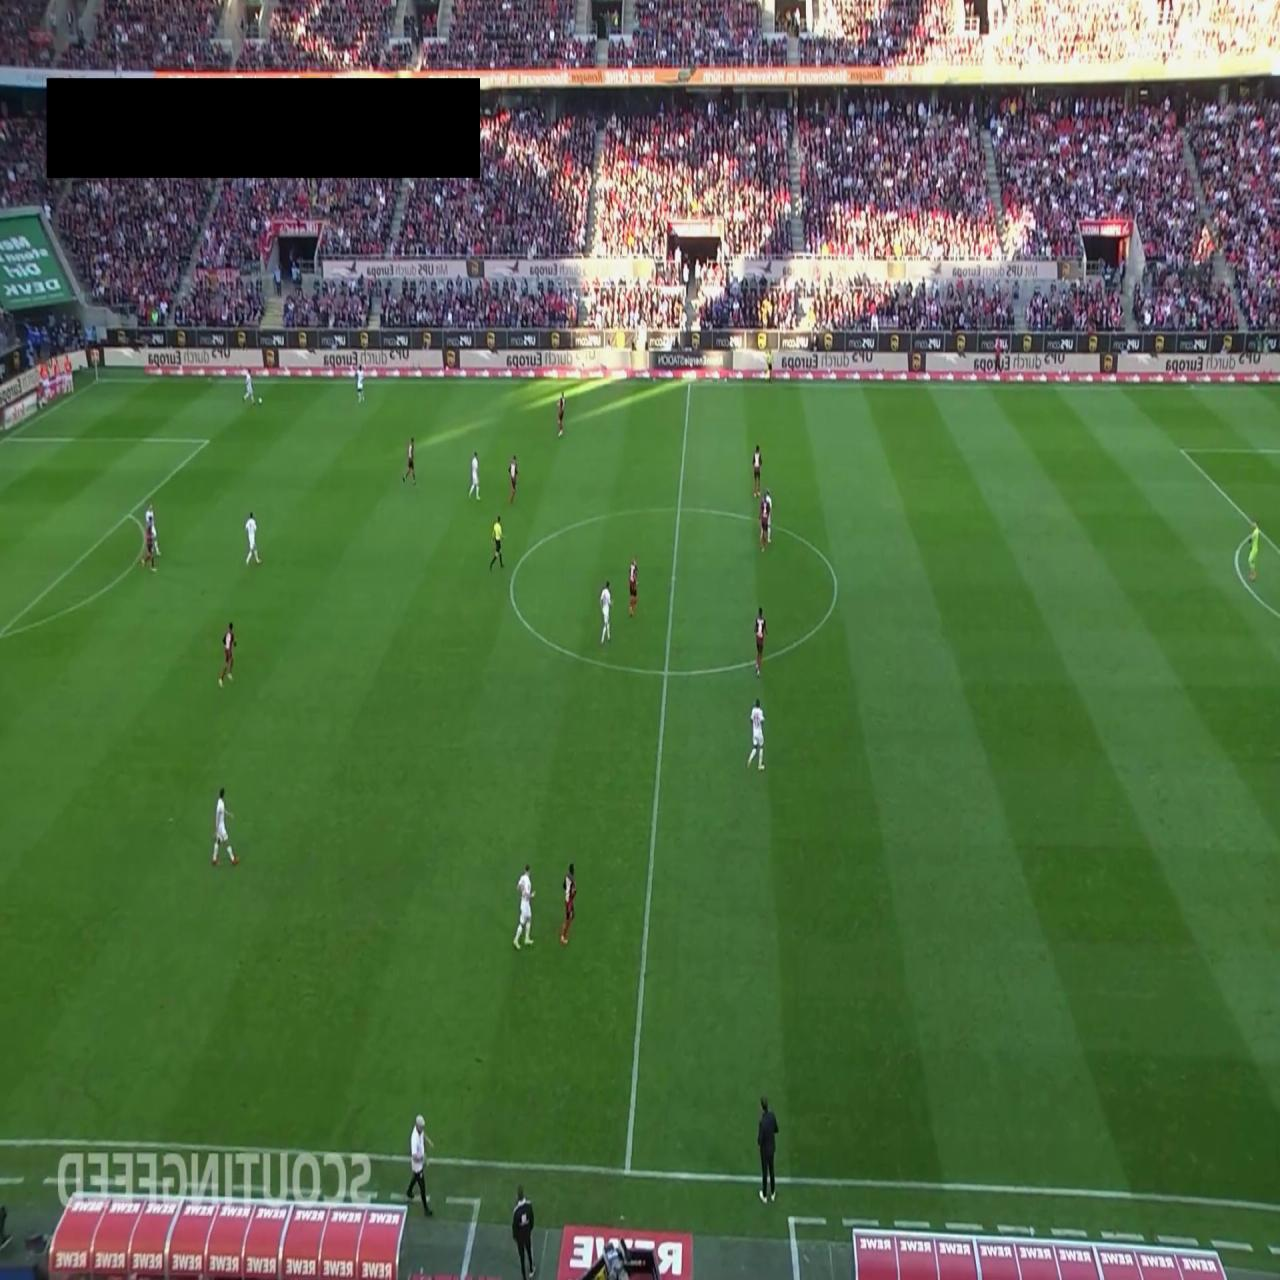ball: (258, 396, 262, 404)
goalkeeper: (1248, 519, 1260, 582)
player: (212, 786, 240, 866), (512, 861, 534, 950), (746, 697, 766, 770), (560, 861, 577, 946), (218, 621, 237, 687), (139, 515, 157, 571), (245, 509, 261, 566), (145, 501, 161, 558), (754, 606, 767, 676), (599, 580, 612, 644), (402, 436, 417, 485), (759, 491, 771, 551), (468, 450, 481, 500), (628, 557, 638, 618), (752, 443, 762, 497), (508, 454, 518, 505), (242, 370, 255, 404), (355, 364, 365, 402), (557, 392, 565, 438)
referee: (489, 513, 505, 571), (763, 347, 774, 386)
